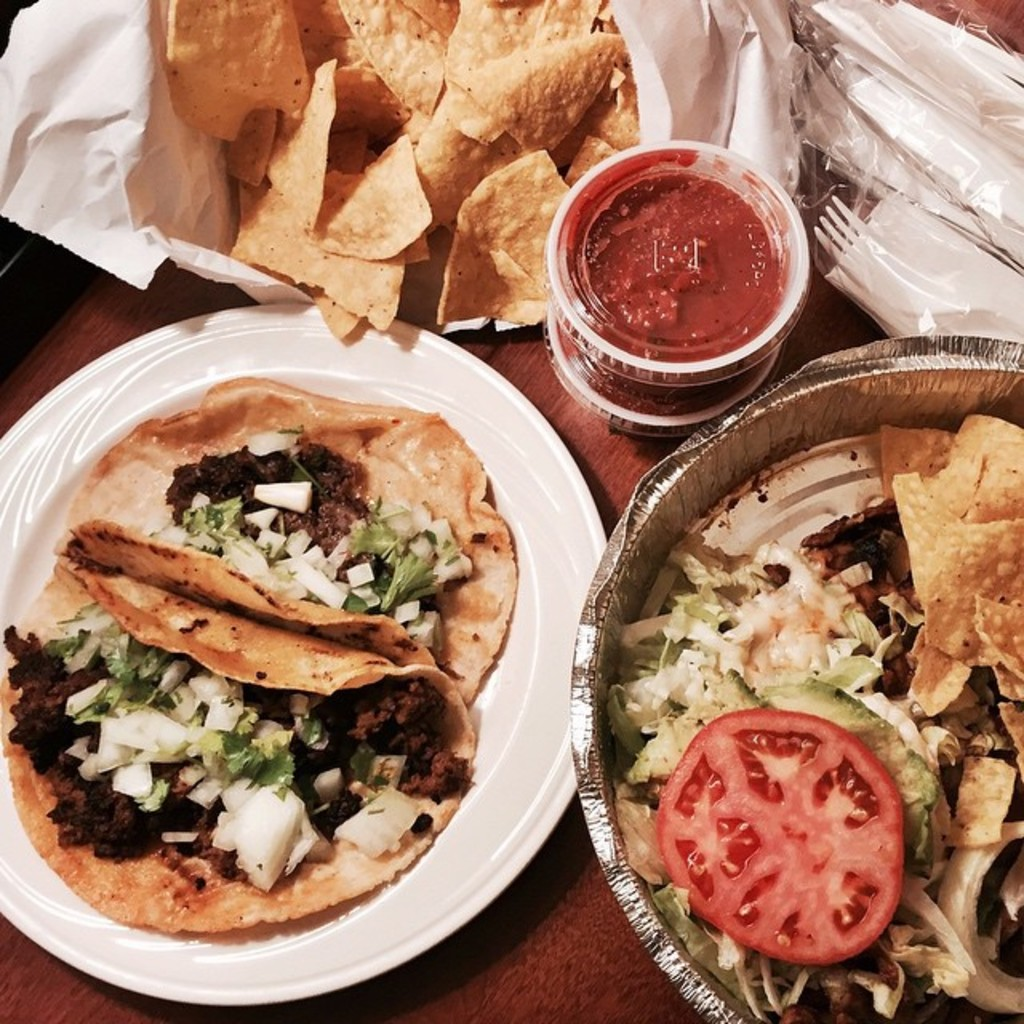salad: (606, 413, 1022, 1022)
